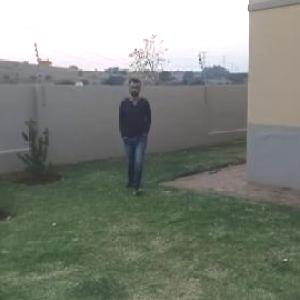follow: (120, 76, 159, 191)
